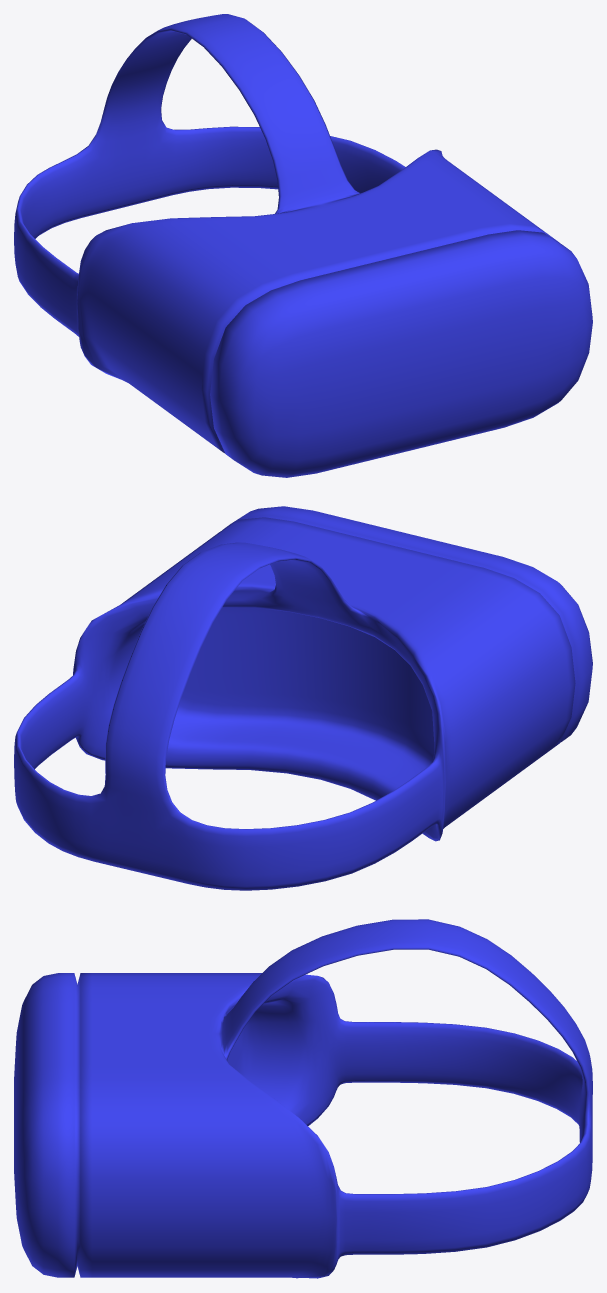
The picture shows the model from 3 angles, top to bottom: view 1: azimuth 30°, elevation 25°; view 2: azimuth 150°, elevation 25°; view 3: azimuth 270°, elevation 25°; orthographic projection.
Visible parts, largest first — view 1: buffer; view 2: buffer; view 3: buffer.
Boxes of the visible parts, x1=… form: buffer: x1=14, y1=14, x2=592, y2=477; buffer: x1=14, y1=506, x2=592, y2=890; buffer: x1=14, y1=919, x2=592, y2=1278.
Size of the model in its own units: 0.2198 by 0.1638 by 0.3003.
